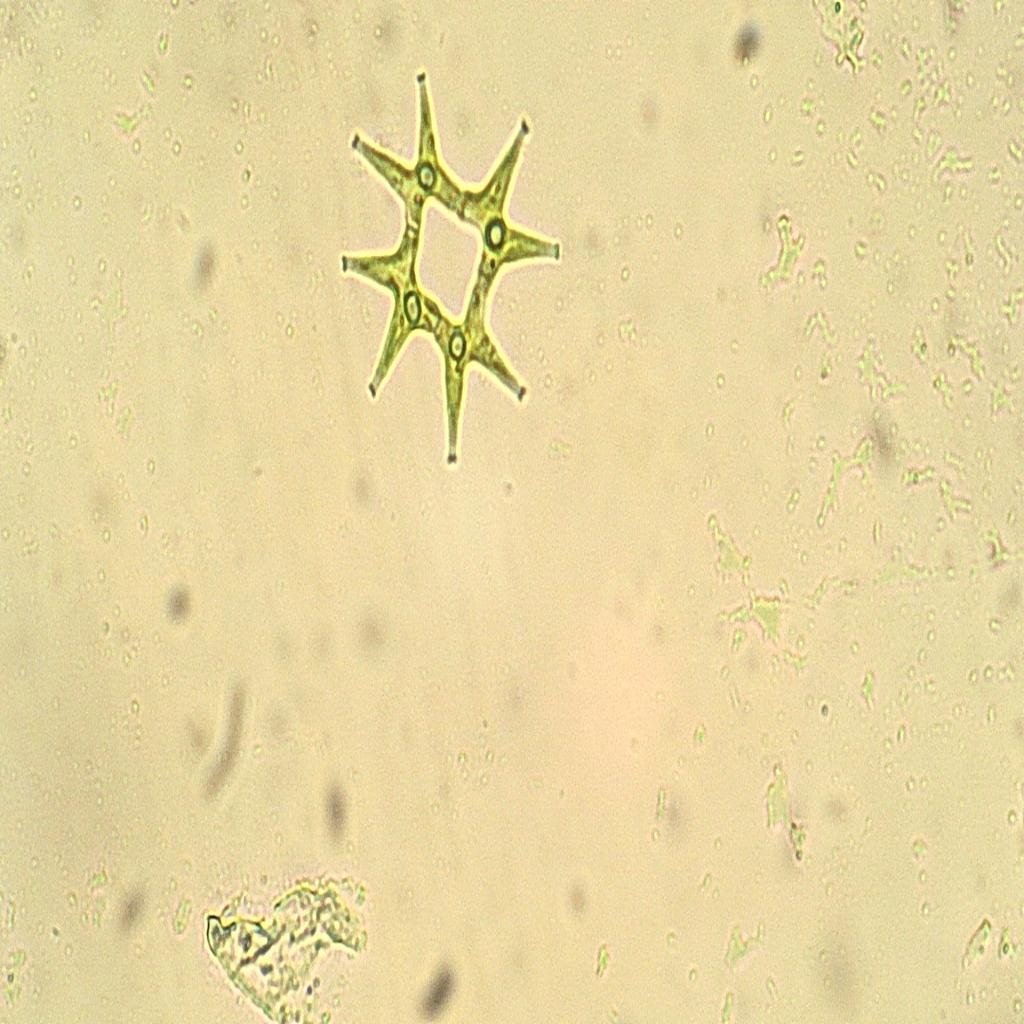Pediastrum_75O: (326, 39, 569, 478)
